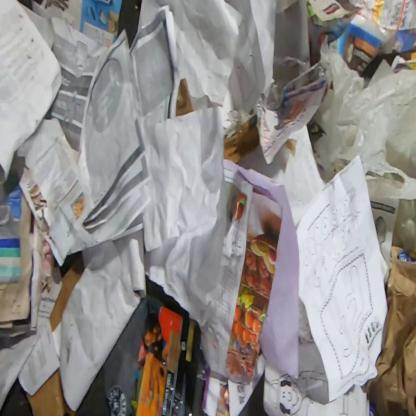cardboard: (362, 245, 415, 415), (49, 251, 85, 332), (24, 367, 78, 415), (224, 113, 259, 164), (175, 77, 193, 117)
soft_plastic: (312, 32, 415, 201), (391, 200, 416, 256), (273, 54, 311, 76), (267, 77, 291, 105)
